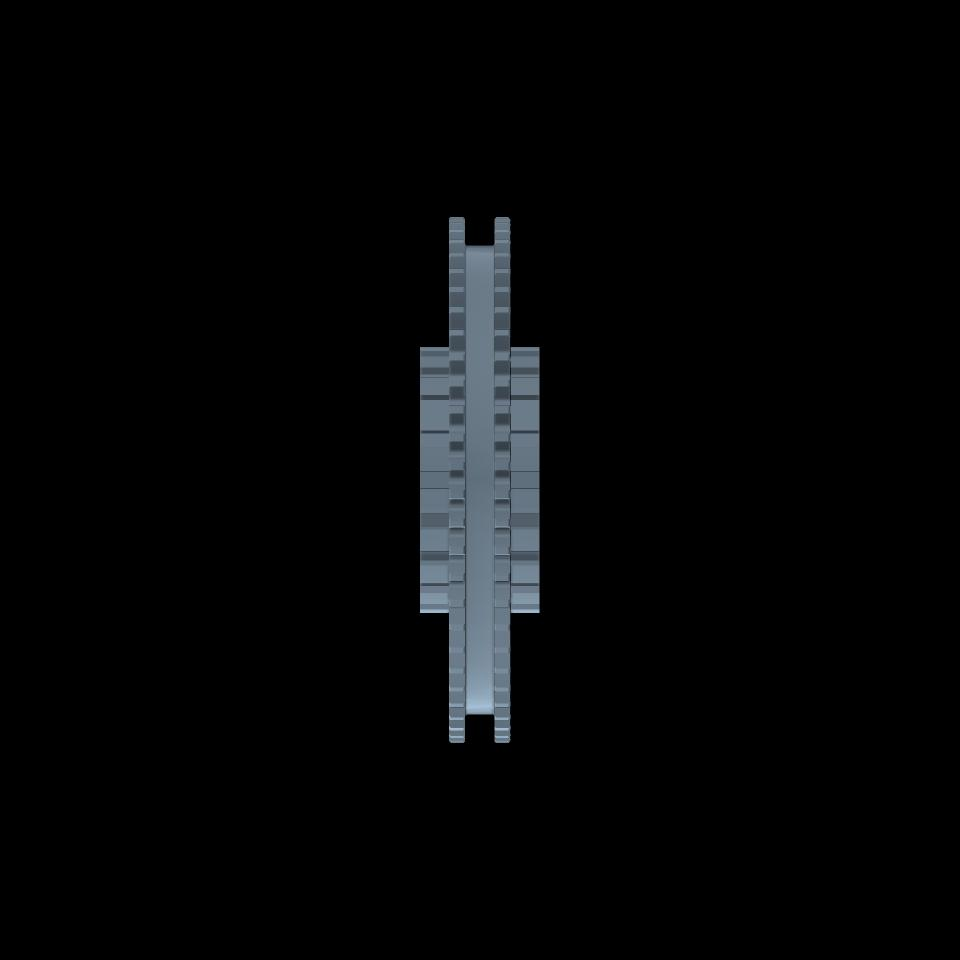Straight: (493, 217, 510, 743), (448, 217, 464, 740), (419, 347, 449, 612), (510, 347, 539, 613)
